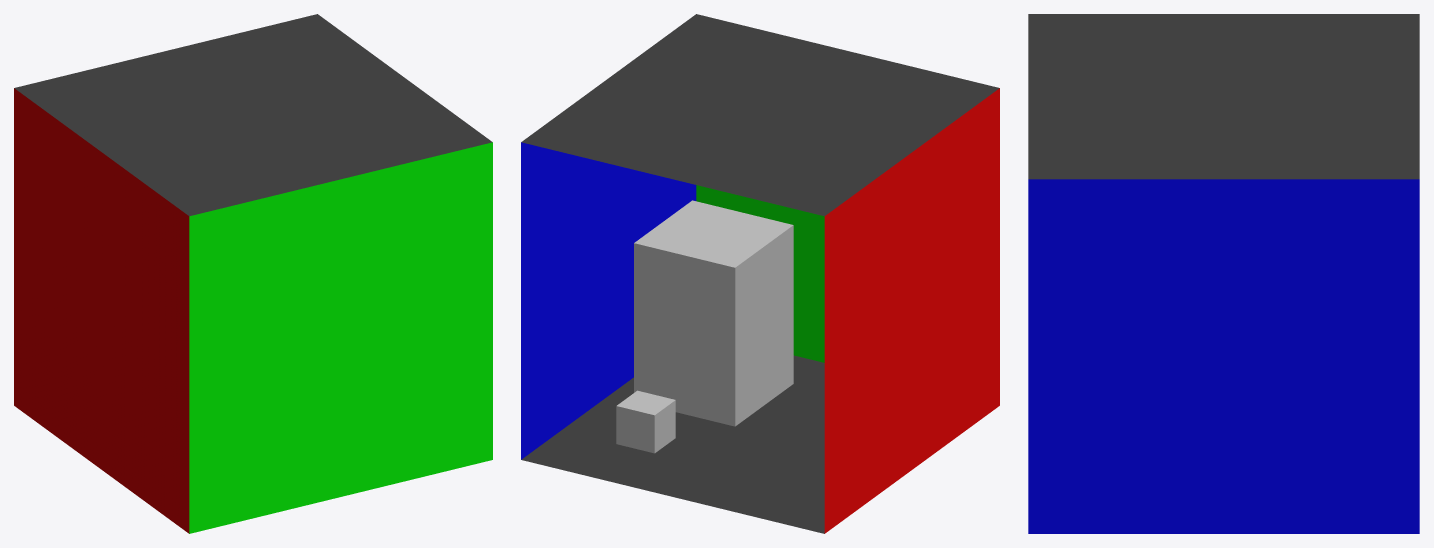
File: room.obj
3 renders of one model, left to right at view 1: azimuth 30°, elevation 25°; view 2: azimuth 150°, elevation 25°; view 3: azimuth 270°, elevation 25°, orthographic. The views are drawn at different scales.
Visible parts, largest first — view 1: greenwall_Plane.004, redwall_Plane.002, ceiling_Plane.003; view 2: redwall_Plane.002, ceiling_Plane.003, bluewall_Plane.001, stand_Cube, floor_Plane, greenwall_Plane.004, cube_Cube.001; view 3: bluewall_Plane.001, ceiling_Plane.003.
Part boxes in pixels (x1,y1,x2,y2): greenwall_Plane.004: (189,142,492,533); redwall_Plane.002: (14,88,189,533); ceiling_Plane.003: (14,14,492,216); redwall_Plane.002: (824,88,999,533); ceiling_Plane.003: (521,14,999,216); bluewall_Plane.001: (521,142,696,459); stand_Cube: (634,200,793,426); floor_Plane: (521,355,824,533); greenwall_Plane.004: (696,185,824,362); cube_Cube.001: (616,390,675,453); bluewall_Plane.001: (1028,179,1419,533); ceiling_Plane.003: (1028,14,1419,179).
Bounding box in the file's own units: 3 × 3 × 3.
